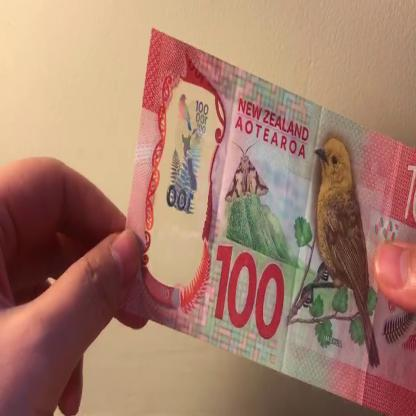100B: (157, 87, 210, 243)
